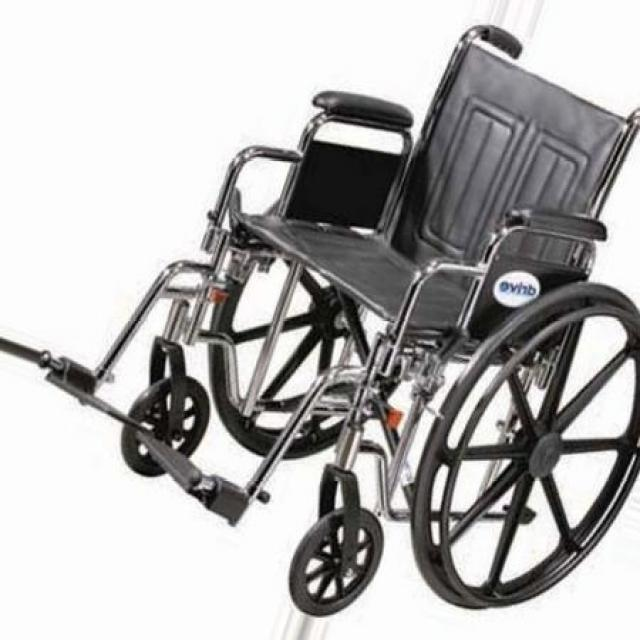wheelchair: (0, 20, 640, 621)
